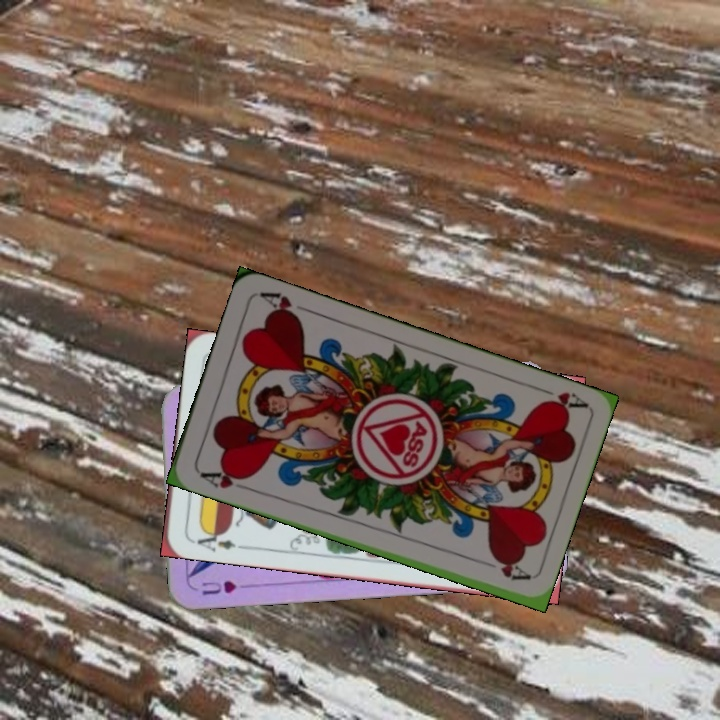EA: (187, 525, 238, 554)
HA: (531, 382, 588, 415), (196, 464, 251, 492)
HU: (197, 576, 239, 598)
